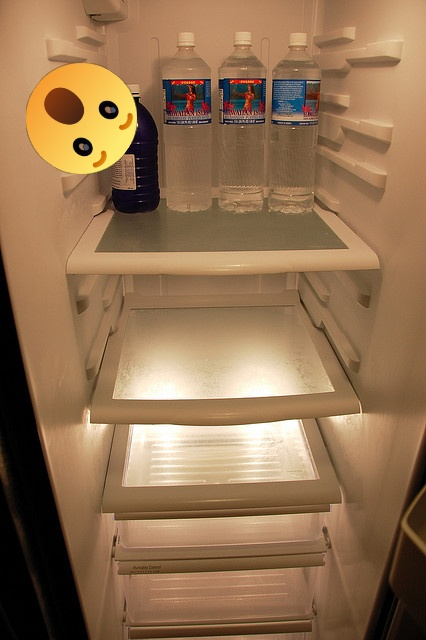wow: (26, 63, 137, 174)
